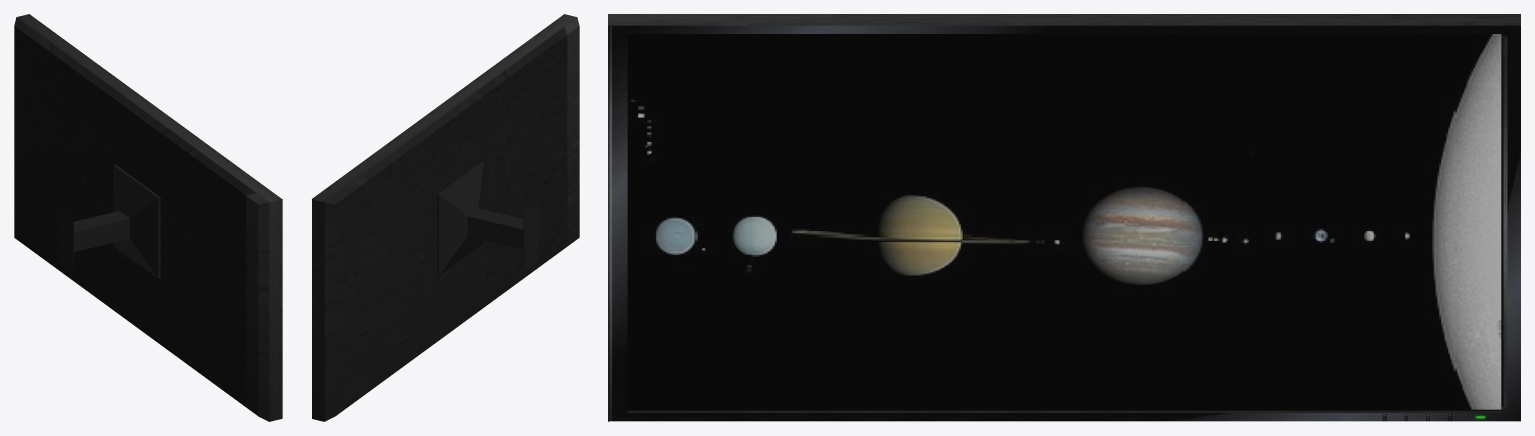
Rendered from pantalla.fbx.
The picture shows the model from 3 angles, left to right: view 1: azimuth 30°, elevation 25°; view 2: azimuth 150°, elevation 25°; view 3: azimuth 270°, elevation 25°; orthographic projection. The views are drawn at different scales.
Parts seen in each view (by area): view 1: Cube; view 2: Cube; view 3: Cube.
Part boxes in pixels (left/top/right/bottom): Cube: left=14, top=14, right=282, bottom=421; Cube: left=312, top=14, right=579, bottom=421; Cube: left=608, top=14, right=1520, bottom=421.
Size of the model in its own units: 162 by 369 by 771.
3 materials, 3 textured.
